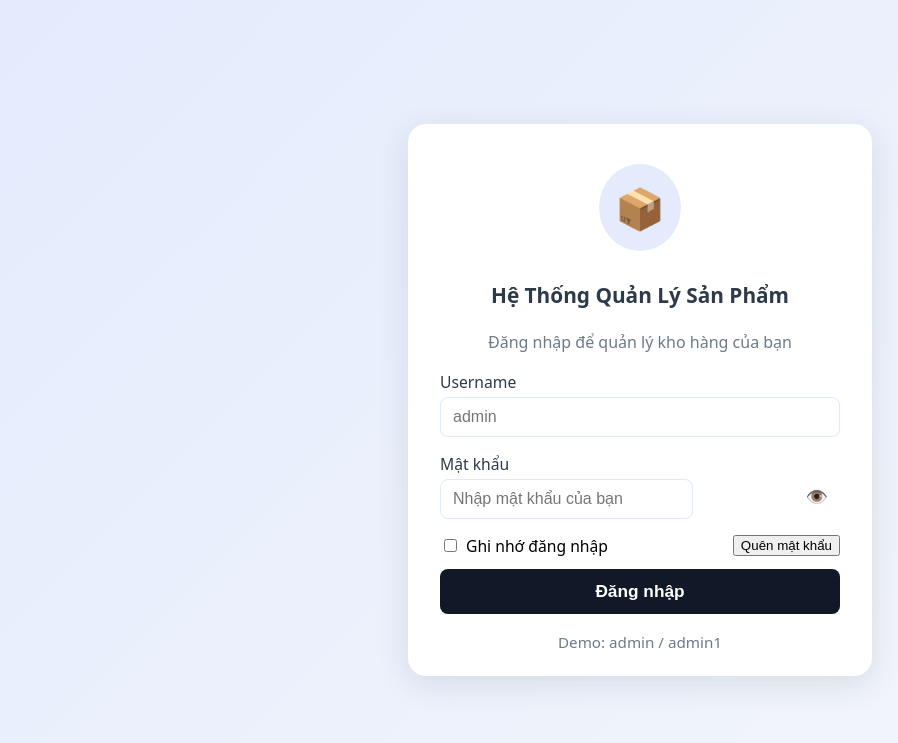
Login Component Mock Tests › Test with Mocked Failed Responses › handles 401 Unauthorized error
Type "wrong" into the field labelled "Username" at (640, 417), box [440, 397, 840, 437]
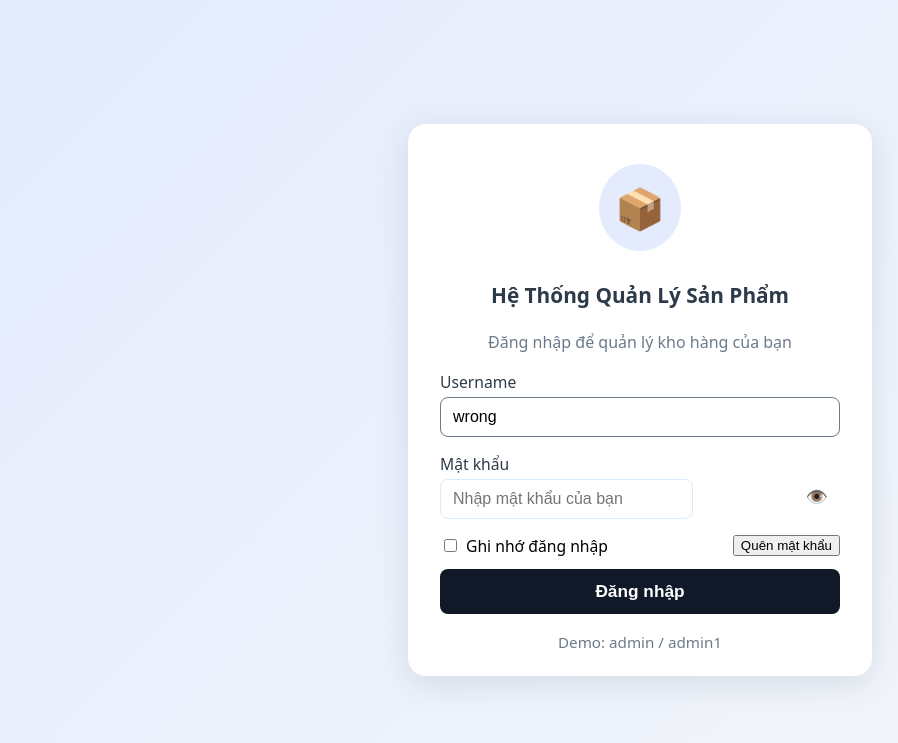
Type "WrongPass" into the password field labelled "Mật khẩu" at (566, 499), box [440, 479, 693, 519]
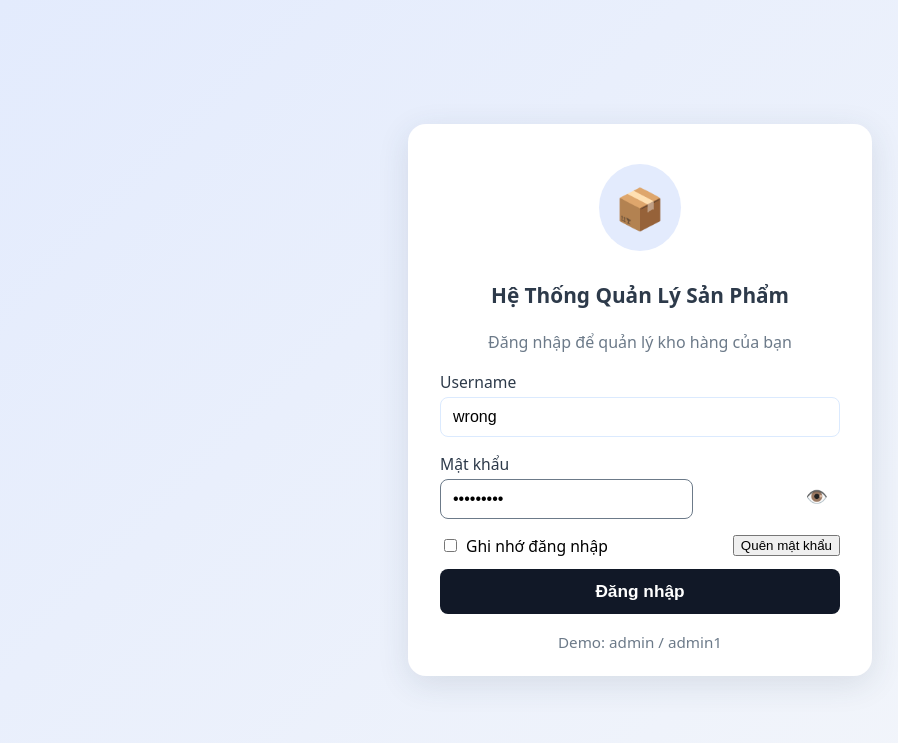
Click the button "Đăng nhập" at (640, 591), box [440, 569, 840, 614]
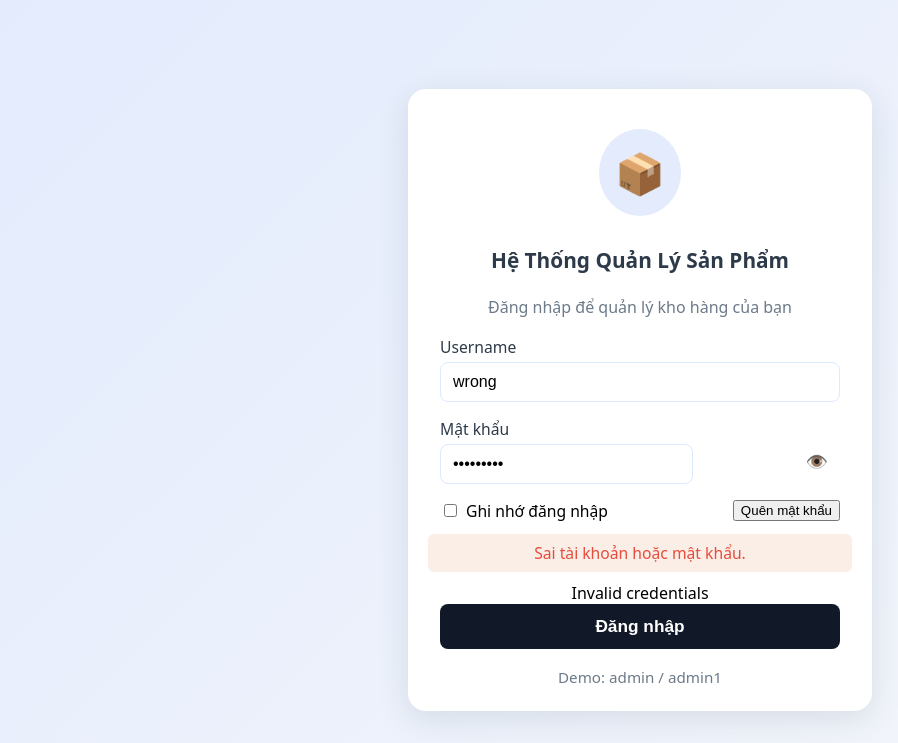
Result: the text "Invalid credentials" is shown at [572, 582, 709, 604]
